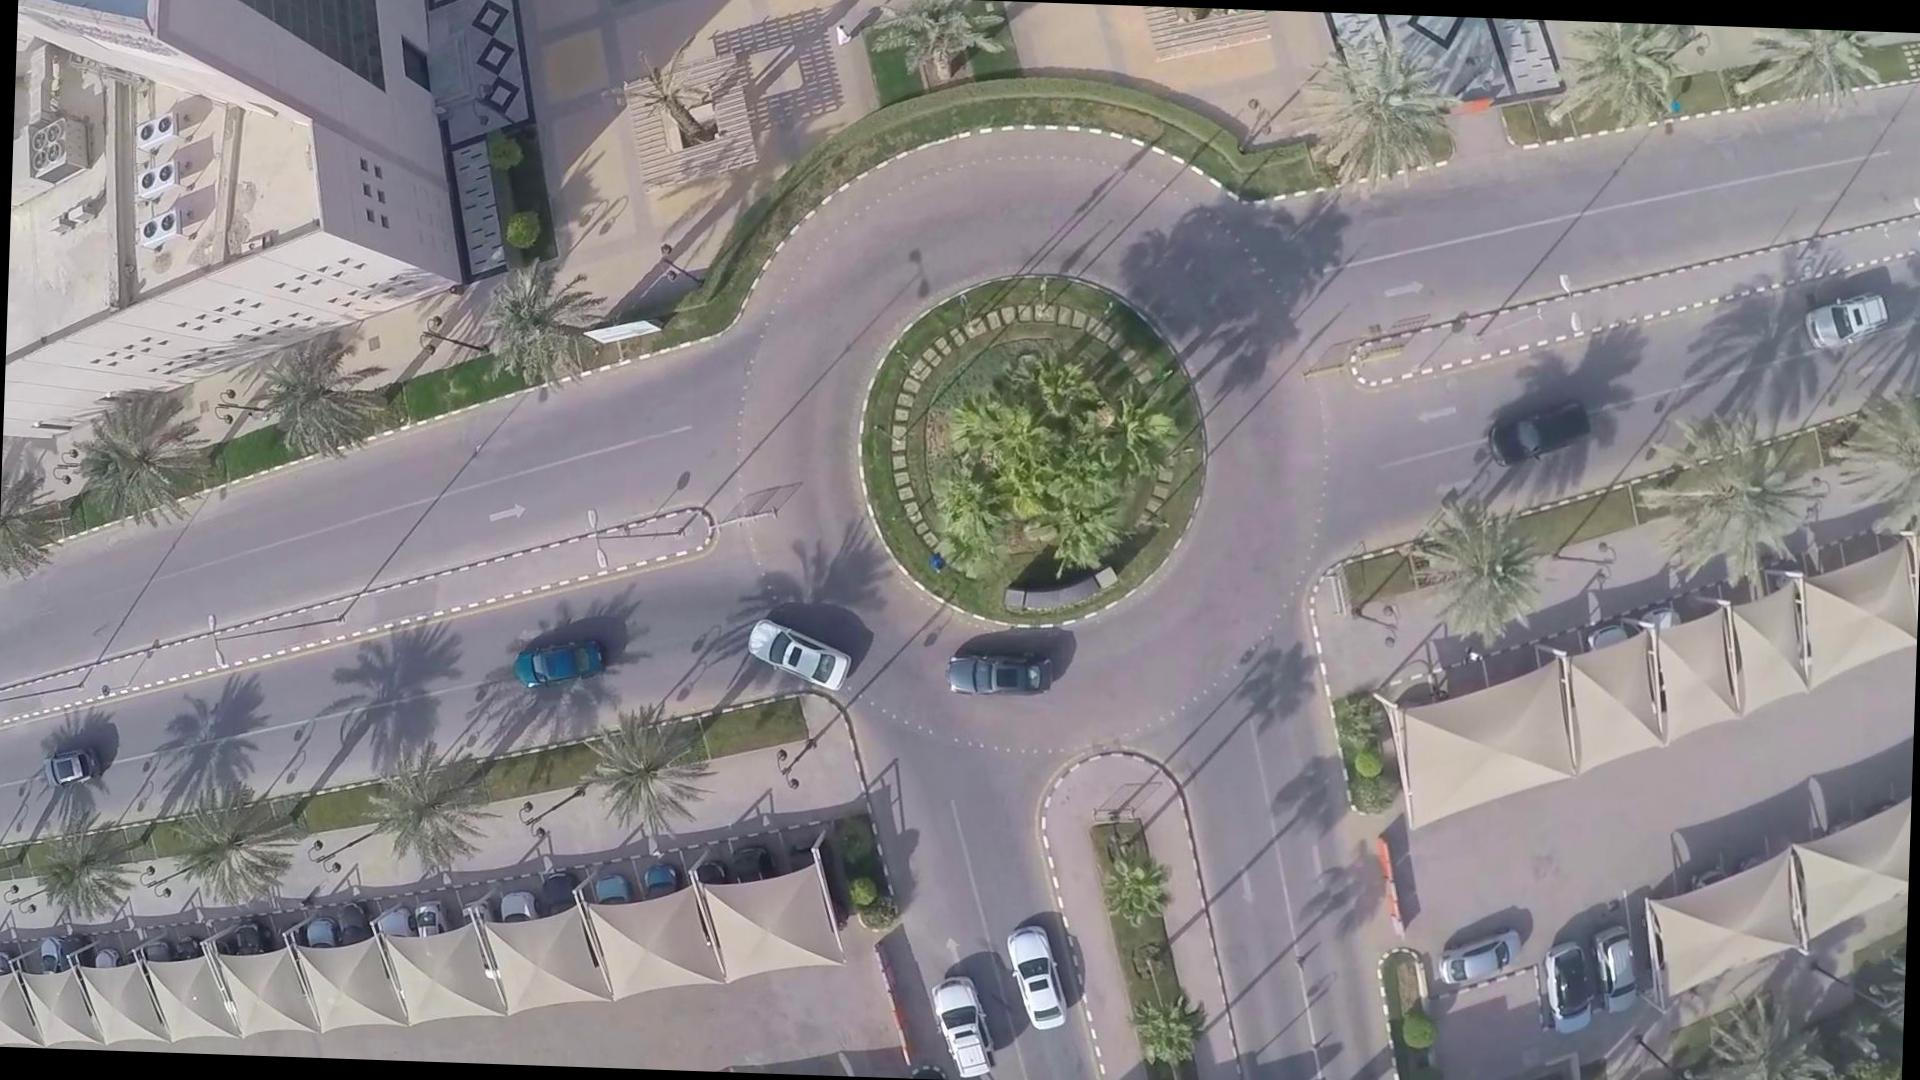vehicle: (723, 612, 862, 699), (1470, 392, 1593, 477), (940, 645, 1058, 713), (998, 930, 1068, 1040), (1800, 284, 1890, 364), (498, 640, 607, 705), (29, 741, 116, 790)
